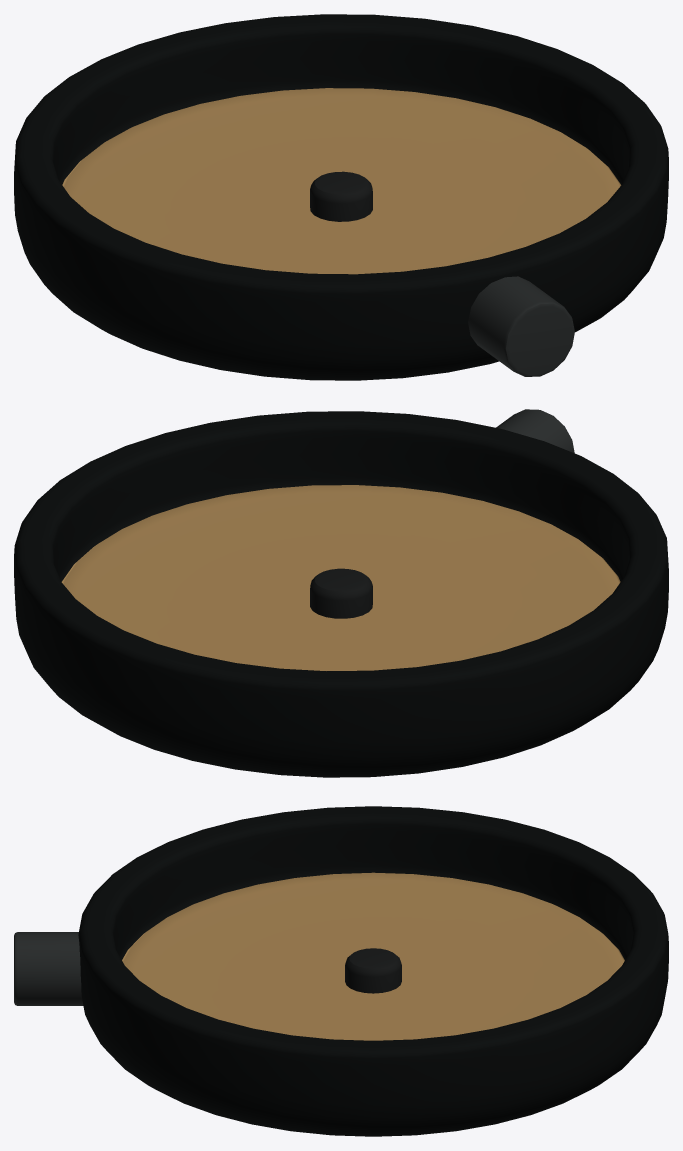
The model's file is compass_body.fbx.
The picture shows the model from 3 angles, top to bottom: view 1: azimuth 30°, elevation 25°; view 2: azimuth 150°, elevation 25°; view 3: azimuth 270°, elevation 25°; orthographic projection. The views are drawn at different scales.
Visible parts, largest first — view 1: polySurface6; view 2: polySurface6; view 3: polySurface6.
Part boxes in pixels (left/top/right/bottom): polySurface6: left=14, top=14, right=668, bottom=380; polySurface6: left=14, top=409, right=668, bottom=777; polySurface6: left=14, top=806, right=668, bottom=1136.
Size of the model in its own units: 4.08 by 0.7874 by 4.53.
